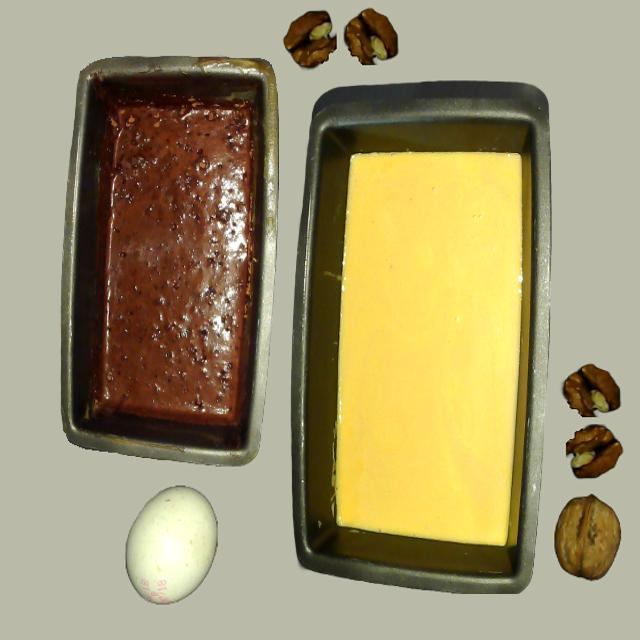Walnut: (543, 494, 628, 590)
